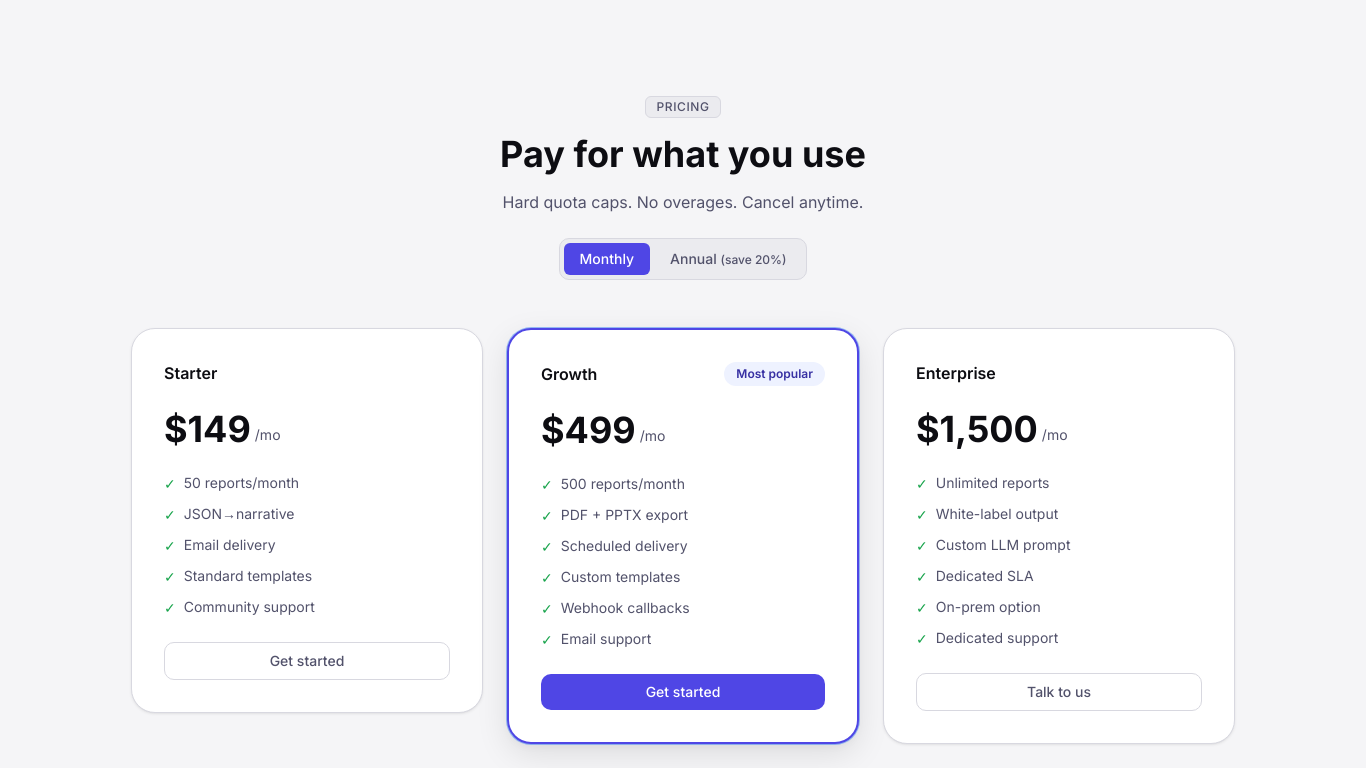
Test case: <Pricing /> › switches back to monthly prices
This screenshot has width=1366, height=768.
Click the button "Annual (save 20%)" at (728, 259), box [654, 243, 802, 275]
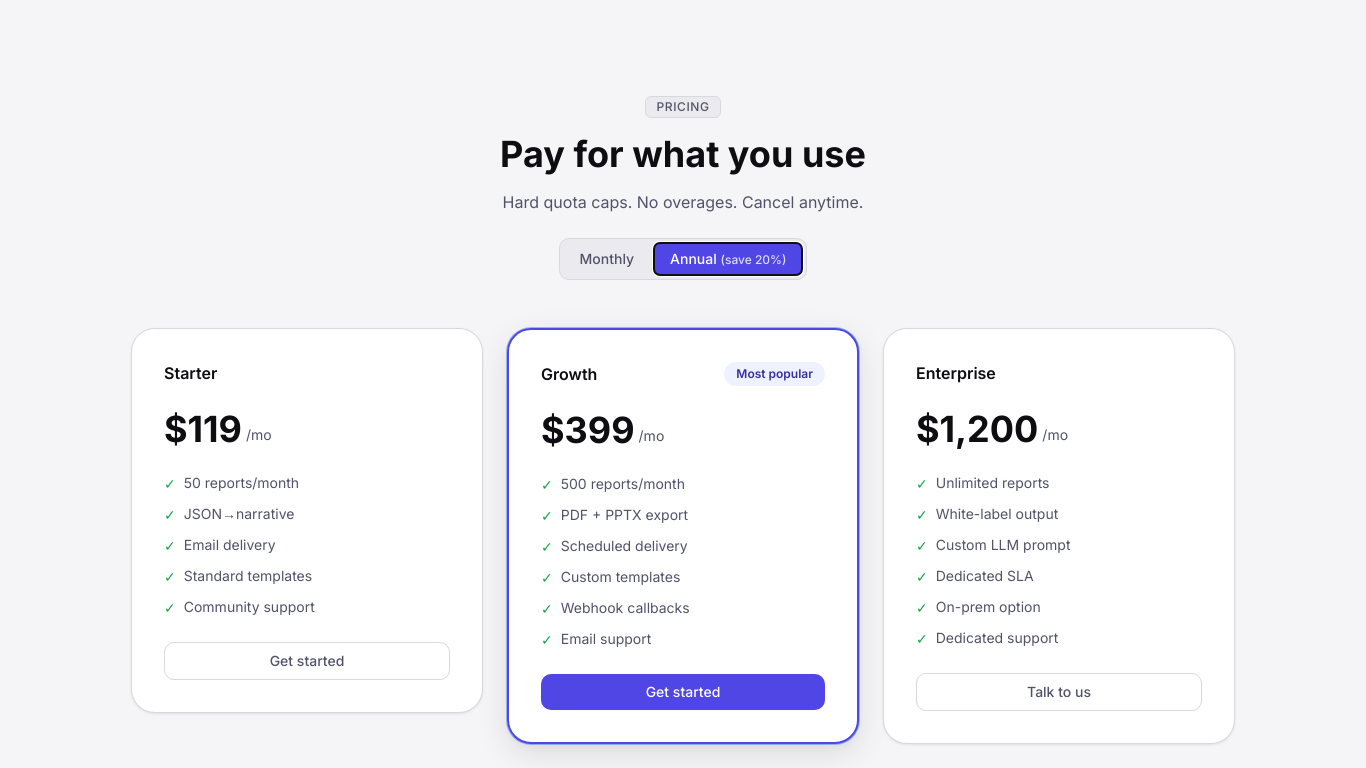
Click the button "Monthly" at (607, 259), box [564, 243, 650, 275]
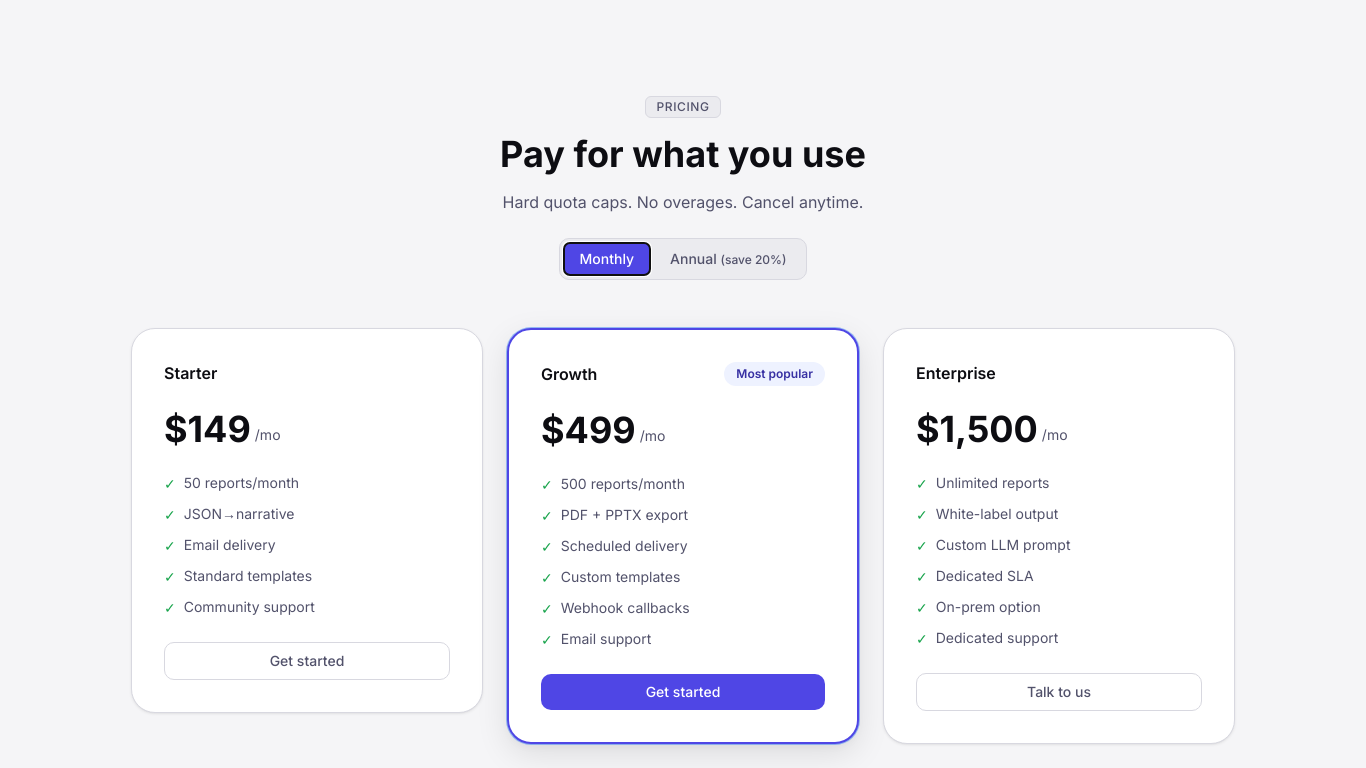
Check: the text "$149" is shown, box [164, 409, 251, 449]
